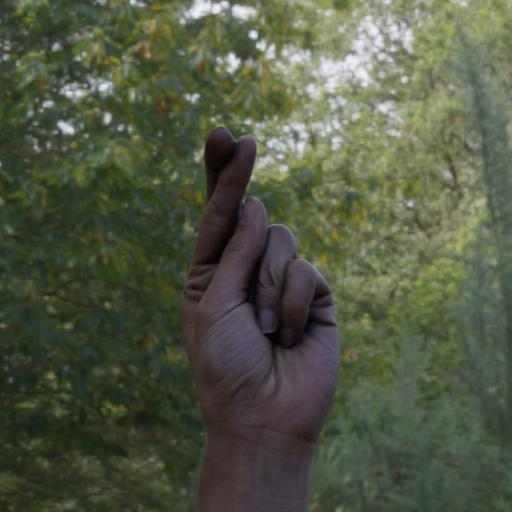R: (152, 103, 362, 459)
